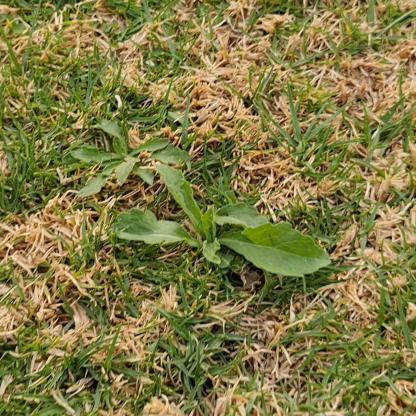Weeds: (112, 164, 332, 277), (61, 121, 192, 198)
